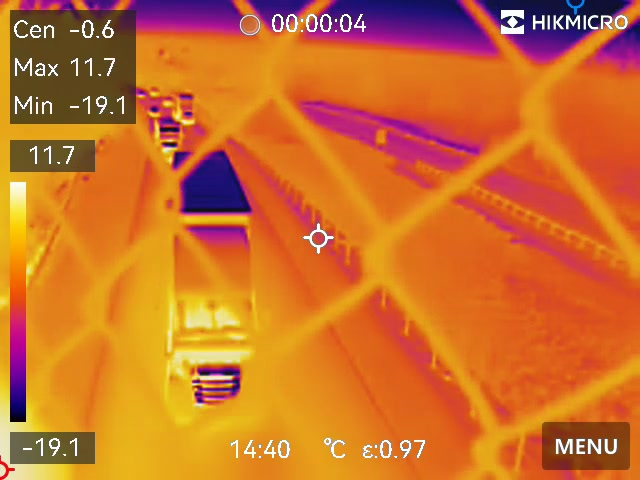heavyTruck: (170, 152, 265, 426), (176, 89, 197, 126)
